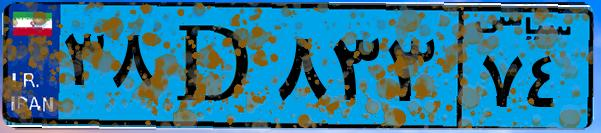3: (385, 28, 445, 110), (330, 28, 385, 110), (57, 26, 110, 100)
4: (525, 38, 570, 115)
7: (475, 38, 525, 113)
8: (270, 28, 330, 110), (110, 28, 158, 98)
D: (158, 12, 270, 120)
